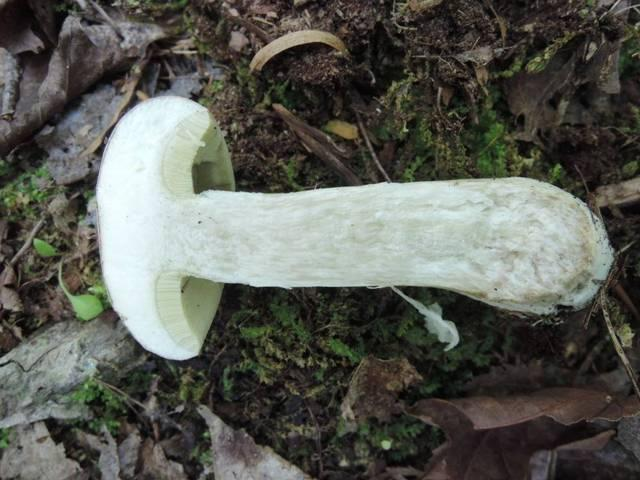Edible Mushroom: (93, 93, 615, 361)
